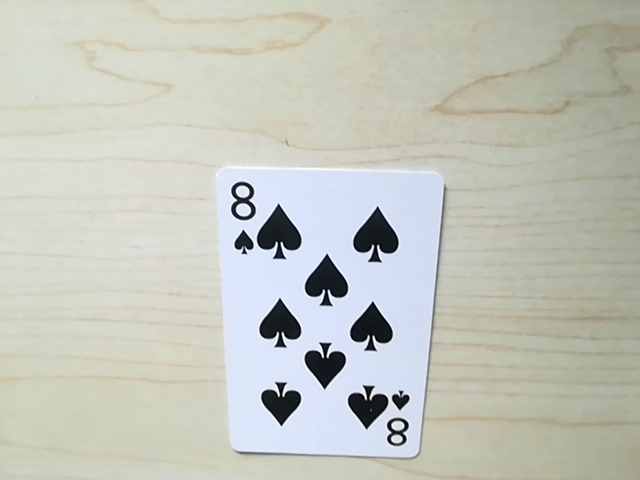ht 8: (222, 172, 264, 251), (375, 396, 416, 455)
